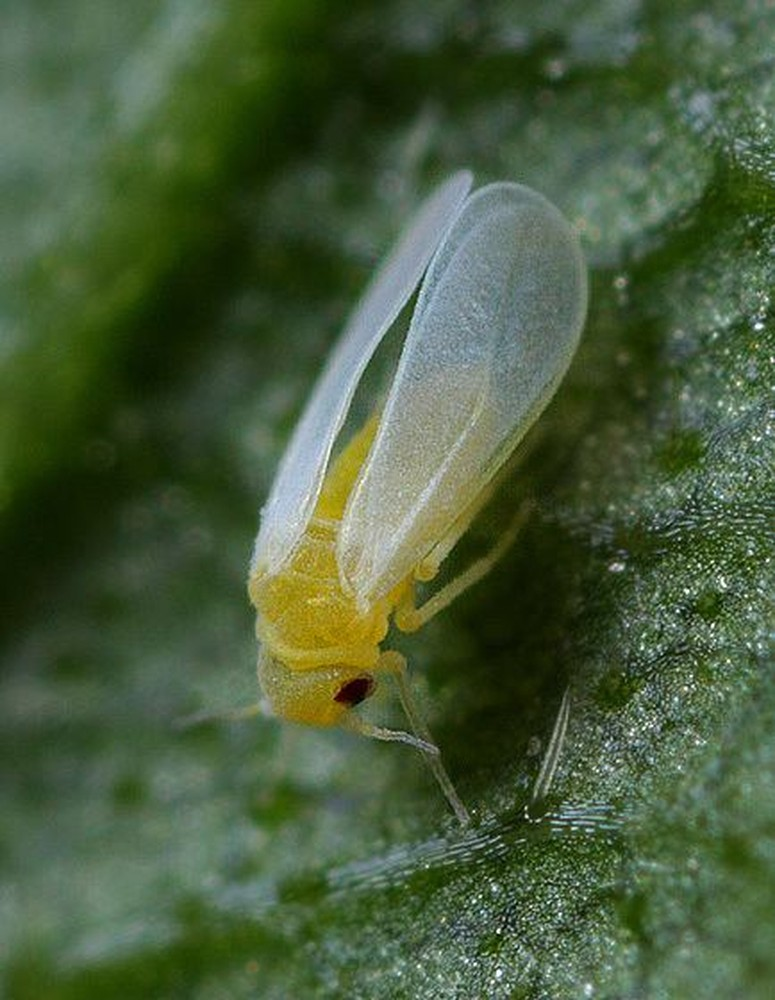Mosca Blanca: (188, 156, 615, 831)
